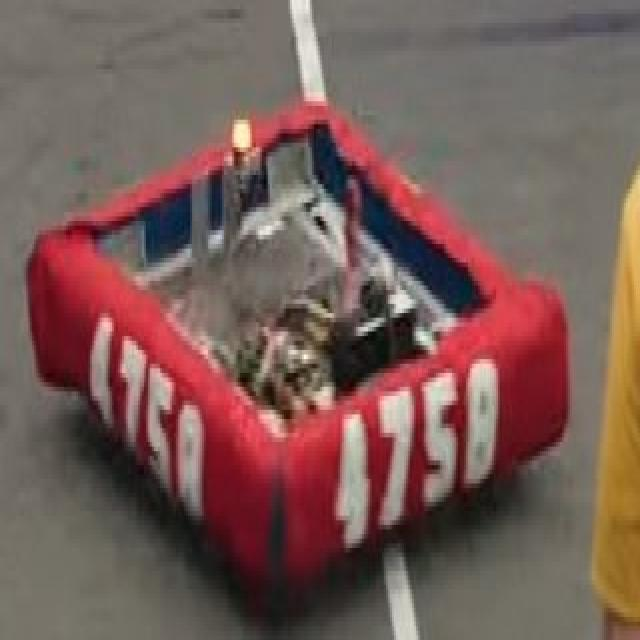robot: (10, 96, 575, 592)
